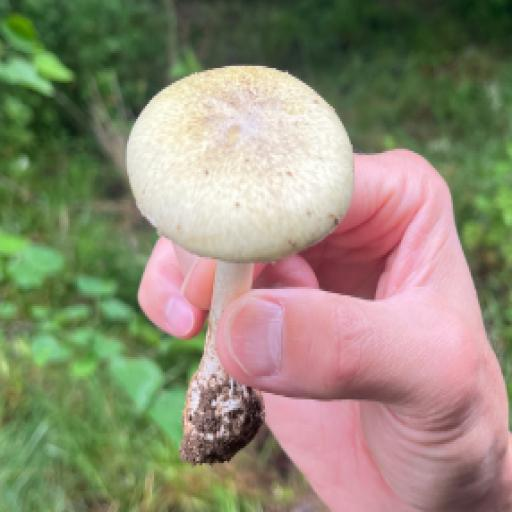mushroom: (112, 47, 403, 470)
